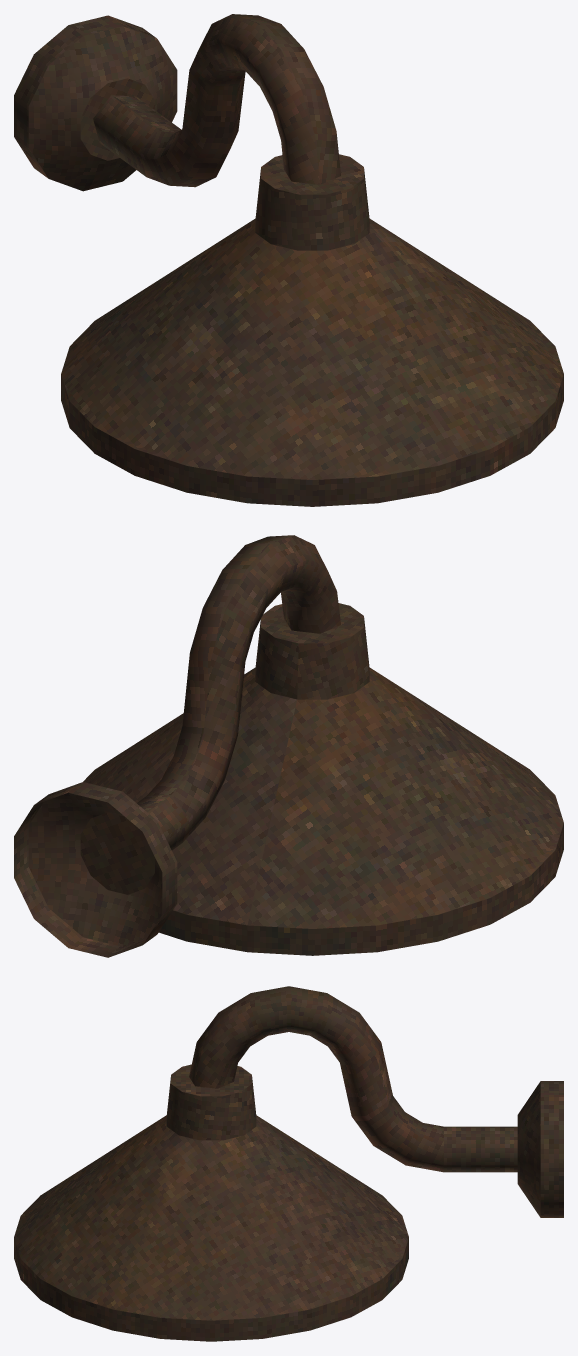
The model's file is lamp_mx_3_off.glb.
3 views of the same model, one above another, from view 1: azimuth 30°, elevation 25°; view 2: azimuth 150°, elevation 25°; view 3: azimuth 270°, elevation 25° (orthographic). The views are drawn at different scales.
Visible parts, largest first — view 1: lamp_mx_3_off; view 2: lamp_mx_3_off; view 3: lamp_mx_3_off.
Boxes of the visible parts, left/top/right/bottom form: lamp_mx_3_off: left=14, top=14, right=563, bottom=506; lamp_mx_3_off: left=14, top=535, right=563, bottom=957; lamp_mx_3_off: left=14, top=986, right=563, bottom=1341.
Bounding box in the file's own units: 0.51 × 0.418 × 0.71.
2 materials, 2 textured.
